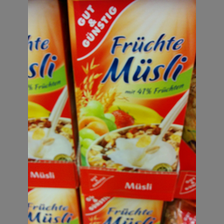cereal: (67, 1, 195, 171), (28, 1, 77, 168)
